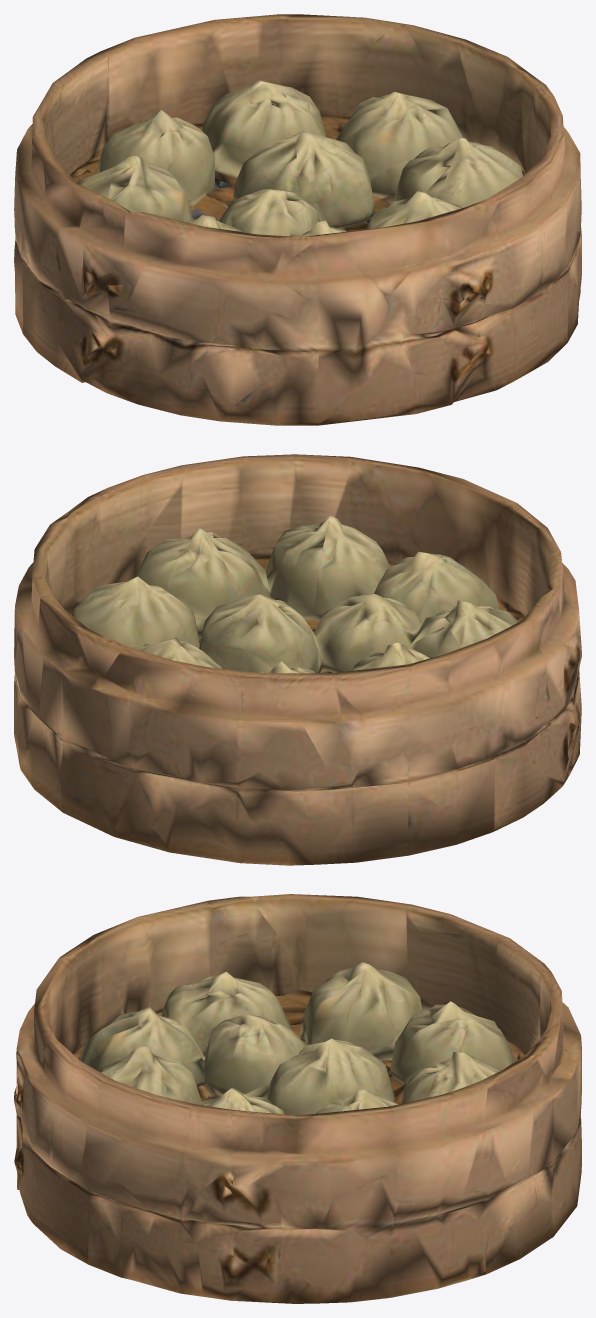
Rendered from veg-momos-ar.glb.
3 renders of one model, top to bottom at view 1: azimuth 30°, elevation 25°; view 2: azimuth 150°, elevation 25°; view 3: azimuth 270°, elevation 25°, orthographic.
Visible parts, largest first — view 1: mesh_node; view 2: mesh_node; view 3: mesh_node.
Boxes of the visible parts, box(x1,y1,x2,y2) form: mesh_node: box(14, 14, 581, 425); mesh_node: box(14, 454, 581, 865); mesh_node: box(14, 894, 581, 1303).
Size of the model in its own units: 0.2188 by 0.0778 by 0.2199.
Materials: 1 (1 with a texture image).
